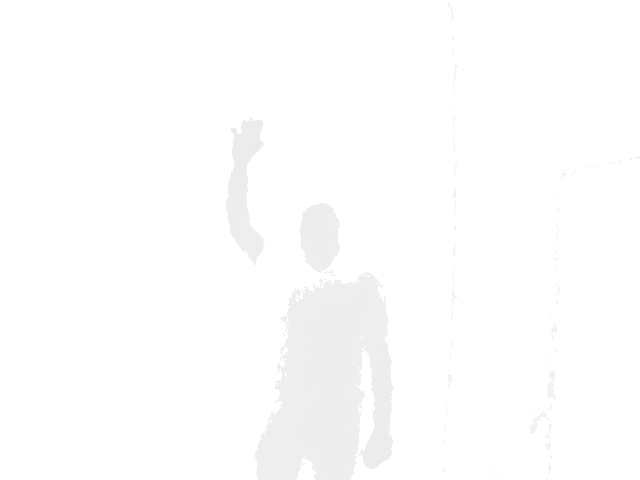hand: (230, 116, 265, 162)
head: (298, 201, 342, 272)
person: (225, 116, 395, 479)
